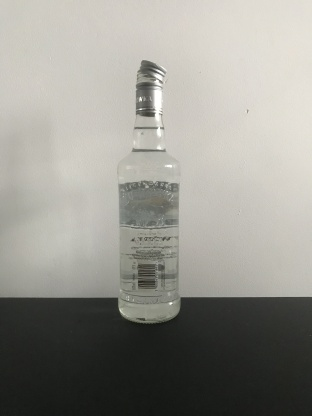nakretka: (134, 58, 168, 117)
